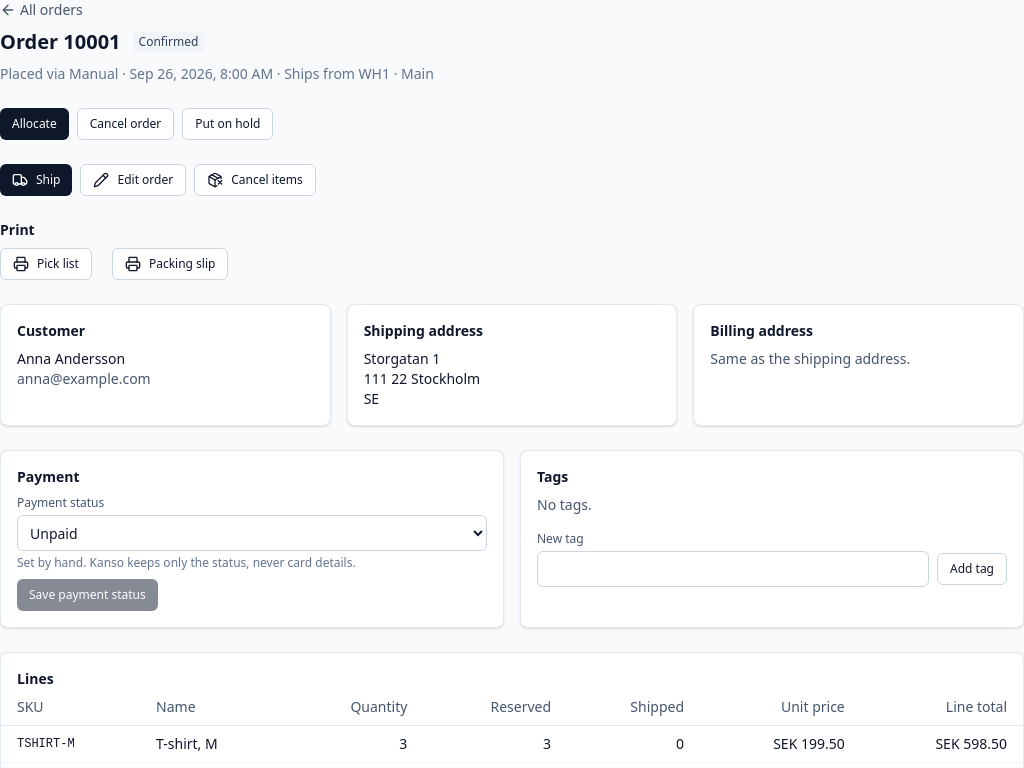
Test: cancelling items › warns that cancelling everything cancels the order
Click the button "Cancel items" at (255, 180), box x1=194 y1=164 x2=316 y2=196
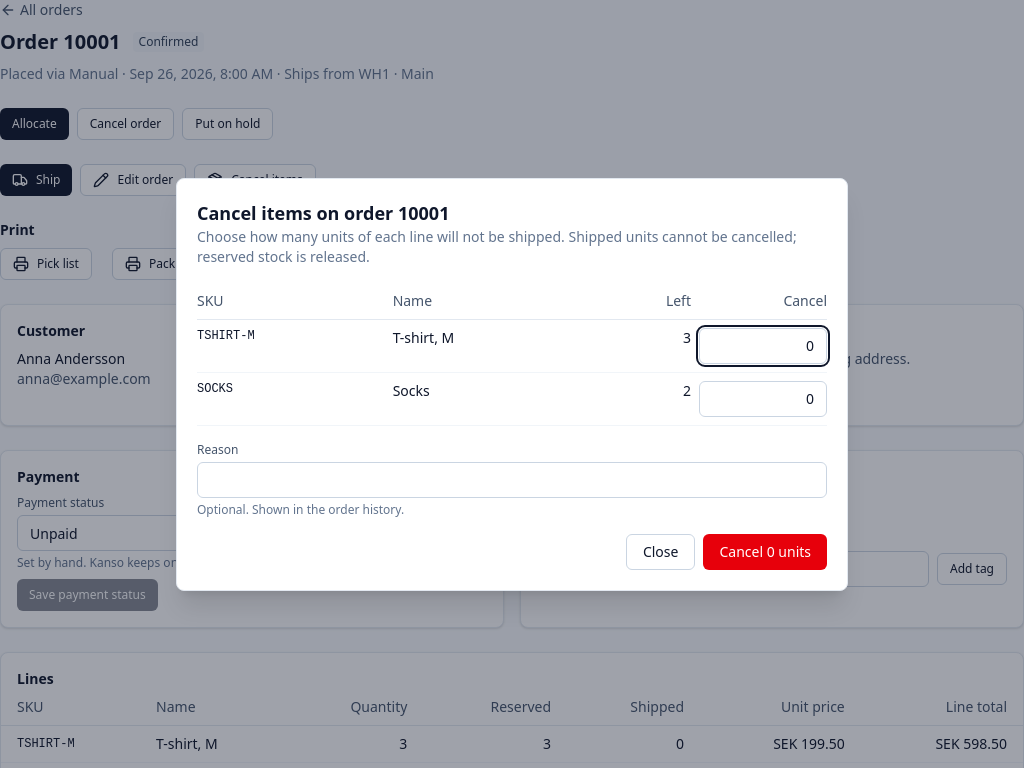
Replace the text in the 1st field named "Units of TSHIRT-M to cancel" with "3" at (763, 346), box x1=699 y1=328 x2=827 y2=364
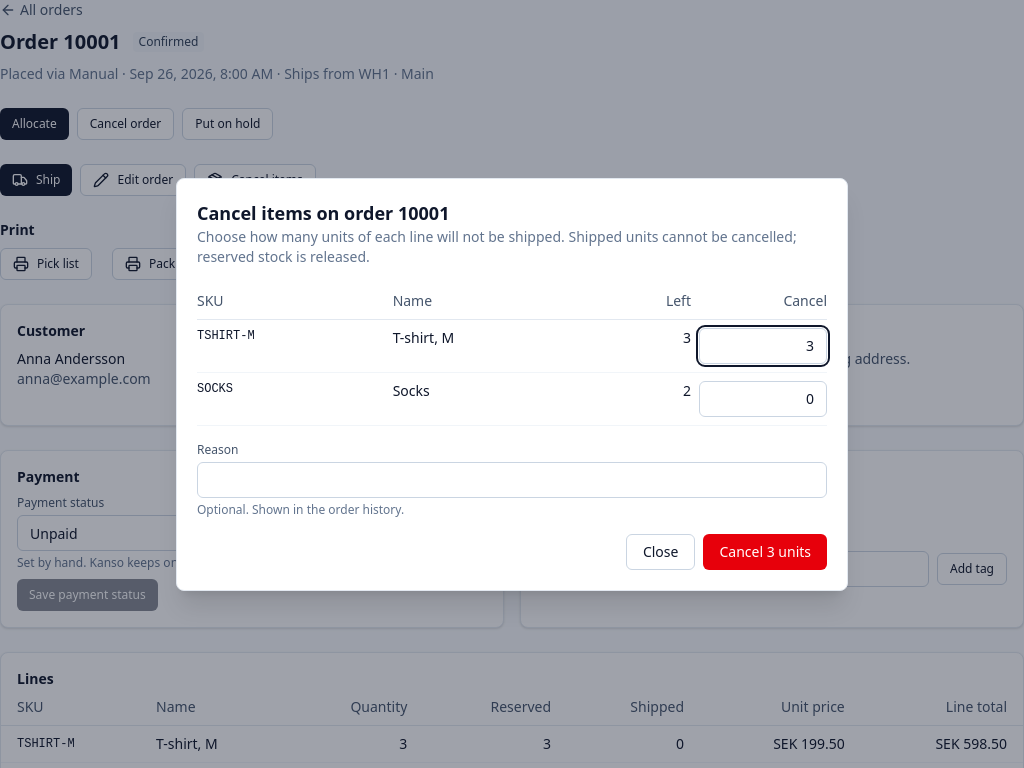
Replace the text in the 2nd field named "Units of SOCKS to cancel" with "2" at (763, 398), box x1=699 y1=380 x2=827 y2=416
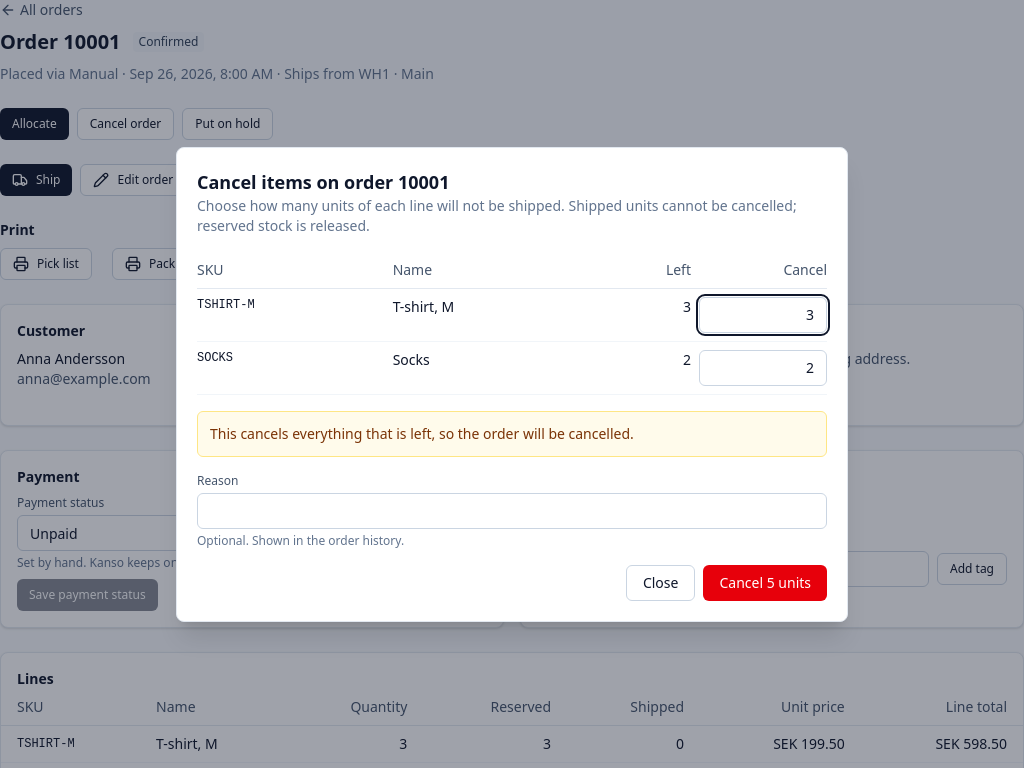
expect the text "so the order will be cancelled" is shown: met, box x1=210 y1=424 x2=634 y2=442
